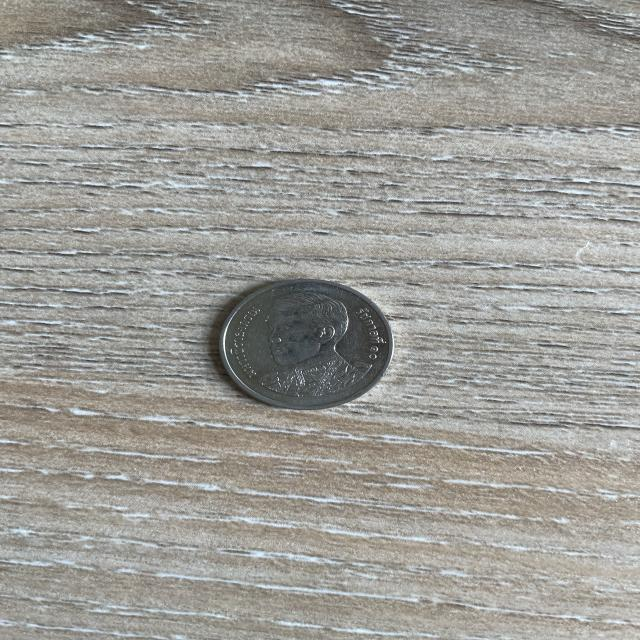1 Bath: (194, 268, 415, 423)
